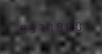nine: (17, 21, 25, 35), (53, 19, 61, 33)
seven: (35, 20, 43, 34), (44, 20, 52, 33)
three: (26, 21, 34, 34)
zero: (71, 18, 79, 32), (62, 19, 70, 32)
